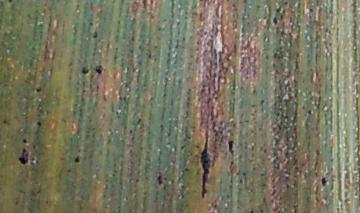tarspot: (197, 127, 212, 200), (15, 146, 32, 167), (224, 137, 238, 155), (79, 63, 92, 77), (318, 174, 330, 189), (92, 63, 104, 75), (32, 85, 47, 94), (269, 17, 280, 29), (155, 172, 164, 186), (35, 117, 45, 128), (73, 153, 83, 164), (91, 30, 101, 40), (20, 136, 30, 145), (307, 6, 315, 14), (306, 108, 313, 117), (275, 6, 282, 13), (7, 1, 16, 6)
